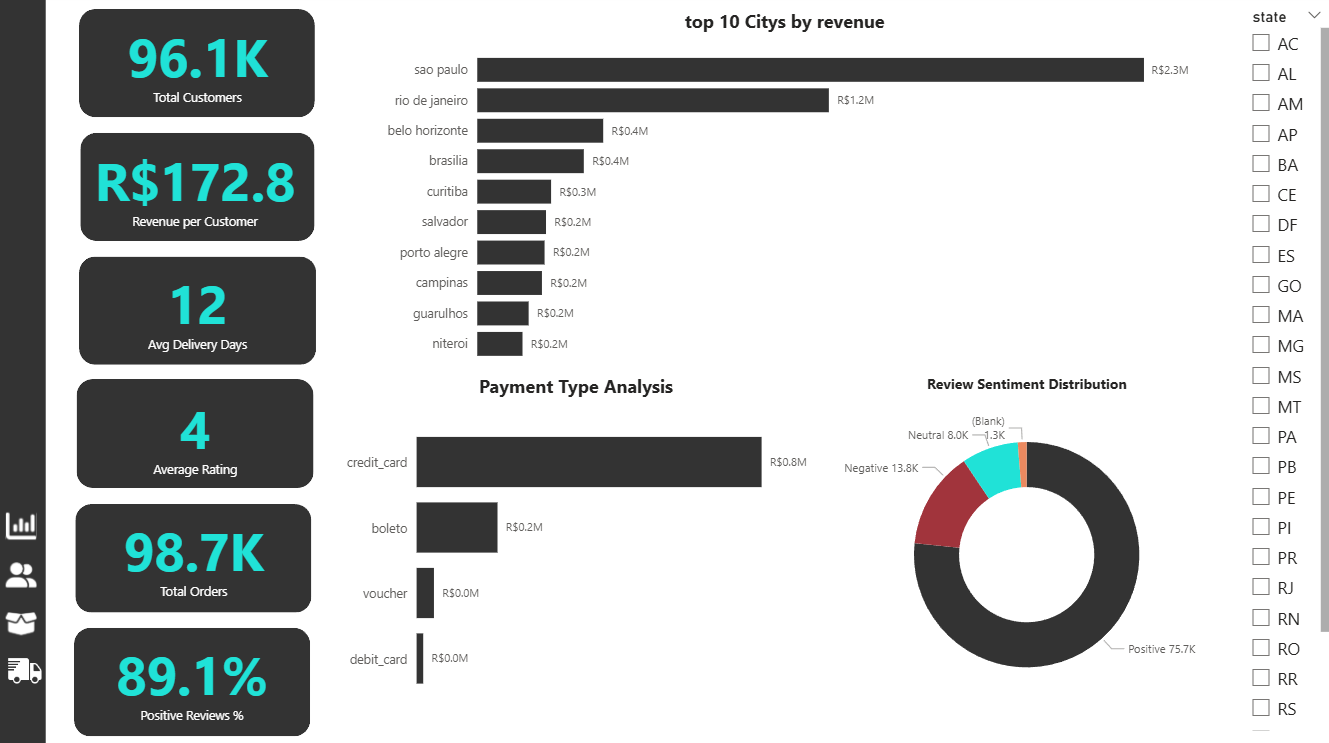

The page's visual inventory and layout, read from the dashboard file:
{"tool":"powerbi","page":{"name":"Customers","canvas":[1280,720],"ordinal":1},"visuals":[{"type":"shape","box":[71.9,607.6,226.5,104.3],"z":0},{"type":"shape","box":[73.1,488.7,226.5,104.3],"z":1000},{"type":"shape","box":[74.4,369.6,227.4,104.5],"z":2000},{"type":"shape","box":[76.8,251.1,227.6,103.8],"z":3000},{"type":"shape","box":[77.4,132.7,224.7,103.8],"z":4000},{"type":"shape","box":[76.5,14.2,226.1,103.8],"z":5000},{"type":"shape","box":[0,0,45,720],"z":6000},{"type":"card","fields":{"Values":["Measures table.Total Customers"]},"box":[77.9,14.4,225.3,104.3],"z":7000},{"type":"card","fields":{"Values":["Measures table.Revenue per Customer"]},"box":[75.5,133,225.3,104.3],"z":8000},{"type":"barChart","title":"Payment Type Analysis","fields":{"Category":["gold fact_orders.payment_type"],"Y":["Measures table.Revenue"]},"box":[323.9,364.9,459.2,329.3],"z":9000},{"type":"donutChart","title":"Review Sentiment Distribution","fields":{"Category":["gold fact_orders.review_sentiment"],"Y":["Measures table.Total Orders"]},"box":[783.1,364.9,405.8,329.3],"z":10000},{"type":"barChart","title":"top 10 Citys by revenue","fields":{"Category":["gold dim_customers.city"],"Y":["Measures table.Revenue"]},"box":[361.2,14.2,785.1,349.9],"z":11000},{"type":"slicer","fields":{"Values":["gold dim_customers.state"]},"box":[1188.9,8.4,91.1,702.3],"z":12000},{"type":"card","fields":{"Values":["Measures table.Average Delivery Days"]},"box":[76.7,251.7,227.7,103.1],"z":13000},{"type":"card","fields":{"Values":["gold fact_orders.Total_Orders"]},"box":[74.3,489,225.3,101.9],"z":14000},{"type":"card","fields":{"Values":["Measures table.Positive Reviews %"]},"box":[71.9,607.6,226.5,103.1],"z":15000},{"type":"card","fields":{"Values":["Measures table.Average Rating"]},"box":[76.7,370,223.3,105],"z":16000},{"type":"actionButton","box":[2.5,491.2,45,37.5],"z":17000},{"type":"actionButton","box":[2,585,45.6,37.8],"z":18000},{"type":"actionButton","box":[2,538,45.6,37.8],"z":19000},{"type":"image","box":[2,632,45,32.5],"z":20000}]}

Visuals, with their boxes on the page's 1280x720 design canvas (x1, y1, x2, y2). These are canvas units, not pixel positions in the 1329x743 screenshot, which may show the page scaled, cropped or inside an application window:
shape: box=[72, 608, 298, 712]
shape: box=[73, 489, 300, 593]
shape: box=[74, 370, 302, 474]
shape: box=[77, 251, 304, 355]
shape: box=[77, 133, 302, 236]
shape: box=[76, 14, 303, 118]
shape: box=[0, 0, 45, 720]
card - Measures table.Total Customers: box=[78, 14, 303, 119]
card - Measures table.Revenue per Customer: box=[76, 133, 301, 237]
"Payment Type Analysis" barChart: box=[324, 365, 783, 694]
"Review Sentiment Distribution" donutChart: box=[783, 365, 1189, 694]
"top 10 Citys by revenue" barChart: box=[361, 14, 1146, 364]
slicer - gold dim_customers.state: box=[1189, 8, 1280, 711]
card - Measures table.Average Delivery Days: box=[77, 252, 304, 355]
card - gold fact_orders.Total_Orders: box=[74, 489, 300, 591]
card - Measures table.Positive Reviews %: box=[72, 608, 298, 711]
card - Measures table.Average Rating: box=[77, 370, 300, 475]
actionButton: box=[2, 491, 48, 529]
actionButton: box=[2, 585, 48, 623]
actionButton: box=[2, 538, 48, 576]
image: box=[2, 632, 47, 664]
